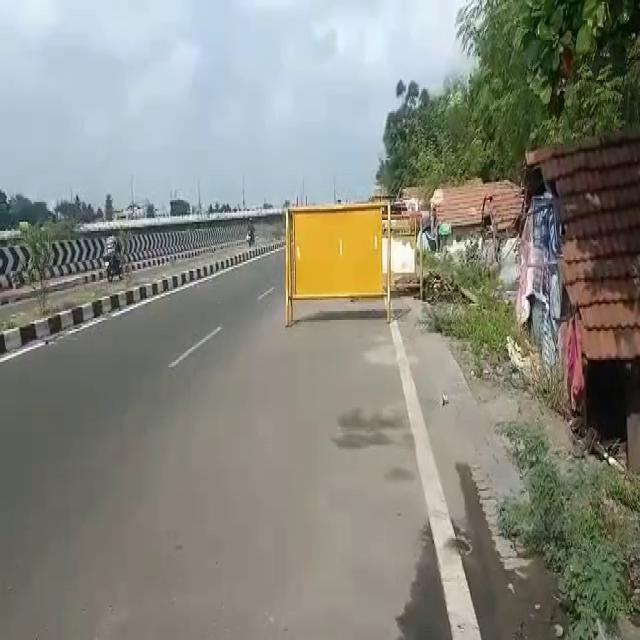fallen_object: (269, 197, 417, 335)
